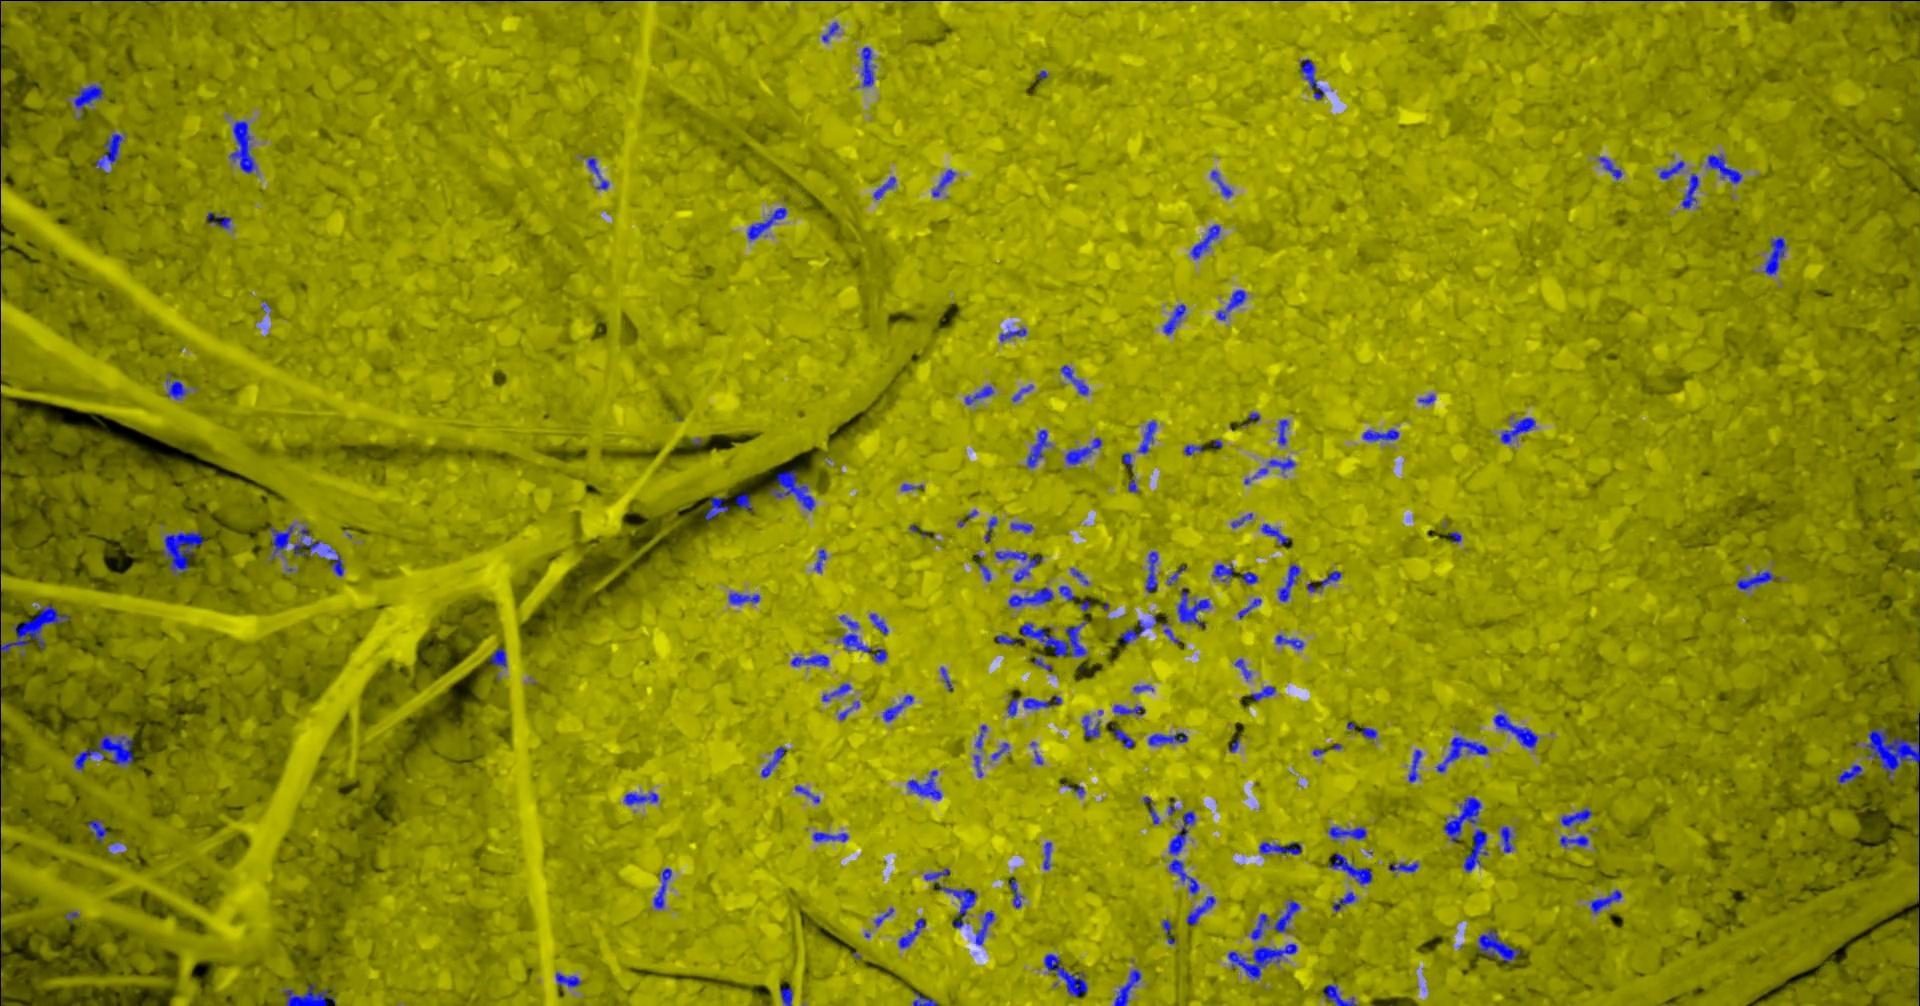ant: (1, 603, 71, 687), (924, 868, 978, 927), (1170, 810, 1200, 894), (1021, 619, 1090, 655), (1229, 942, 1298, 979), (75, 732, 135, 770), (1045, 953, 1090, 997), (1437, 735, 1490, 772), (771, 469, 817, 511), (164, 530, 204, 574), (1495, 713, 1539, 747), (996, 550, 1044, 580), (1479, 929, 1523, 962), (231, 119, 258, 173), (1330, 852, 1373, 884), (748, 207, 789, 240), (1178, 587, 1211, 627), (841, 614, 872, 652), (1117, 615, 1158, 643), (284, 983, 337, 1005), (908, 768, 943, 799), (1708, 154, 1743, 183), (1192, 224, 1222, 259), (1065, 437, 1103, 464), (97, 133, 124, 168), (1115, 969, 1142, 1005), (1302, 58, 1324, 99), (1029, 429, 1053, 467), (1502, 417, 1537, 443), (1275, 898, 1302, 932), (1765, 236, 1788, 276), (1218, 290, 1247, 320), (884, 694, 916, 721), (1010, 587, 1055, 606), (270, 525, 295, 560), (1062, 365, 1090, 395), (74, 84, 105, 111), (1280, 563, 1302, 601), (1189, 895, 1217, 925), (295, 527, 323, 555), (900, 917, 926, 948), (762, 746, 786, 777), (1592, 889, 1623, 913), (1738, 570, 1777, 589), (655, 868, 673, 908), (1164, 304, 1187, 334), (1323, 984, 1357, 1005), (1683, 171, 1700, 208), (1139, 419, 1158, 453), (977, 909, 996, 944), (589, 158, 610, 189), (1211, 169, 1234, 197), (1262, 523, 1290, 546), (933, 169, 956, 196), (1149, 730, 1189, 746), (1145, 550, 1159, 592), (706, 495, 730, 520), (862, 46, 876, 86), (168, 373, 189, 399), (823, 683, 853, 701), (1562, 808, 1592, 826), (1025, 695, 1063, 709), (1330, 826, 1368, 840), (1261, 841, 1303, 854), (1600, 156, 1623, 179), (1112, 727, 1137, 748), (966, 386, 996, 404), (1837, 763, 1864, 782), (875, 177, 897, 199), (1239, 598, 1263, 619), (1661, 160, 1686, 179), (796, 784, 822, 803), (1010, 876, 1025, 908), (1252, 913, 1271, 939), (1349, 721, 1378, 738), (328, 549, 345, 575), (88, 819, 109, 841), (1335, 890, 1357, 911), (1410, 749, 1423, 782), (1144, 796, 1161, 824), (625, 791, 660, 804), (1162, 622, 1182, 644), (792, 654, 830, 666), (1269, 457, 1297, 473), (1277, 634, 1305, 649), (1252, 685, 1277, 701), (1168, 565, 1189, 586), (841, 700, 861, 720), (999, 326, 1029, 340), (1364, 428, 1399, 439), (1213, 563, 1236, 580), (208, 211, 232, 227), (730, 592, 761, 605), (875, 907, 895, 926), (1322, 570, 1343, 588), (1236, 658, 1253, 680), (1083, 715, 1101, 737), (1246, 467, 1269, 484), (557, 972, 582, 987), (489, 647, 508, 666), (1114, 704, 1145, 715), (823, 22, 841, 42), (1013, 384, 1034, 401), (871, 614, 889, 634), (1232, 512, 1255, 527), (737, 493, 756, 511), (1070, 567, 1090, 584), (1502, 826, 1515, 852), (914, 991, 938, 1005), (1561, 835, 1590, 846), (985, 516, 998, 541), (941, 666, 954, 691), (1163, 920, 1177, 942), (814, 832, 850, 841), (1390, 861, 1420, 871), (993, 742, 1010, 760), (1279, 419, 1290, 445), (977, 724, 988, 749), (817, 549, 828, 572), (781, 986, 794, 1005), (1012, 522, 1035, 532), (1060, 586, 1077, 600), (1035, 657, 1053, 669), (980, 561, 992, 580), (872, 648, 888, 662), (1045, 841, 1053, 869), (1242, 572, 1258, 584), (1185, 445, 1205, 455), (997, 634, 1017, 644), (975, 754, 984, 777), (1008, 697, 1018, 716), (1124, 452, 1134, 470), (902, 483, 924, 490)
